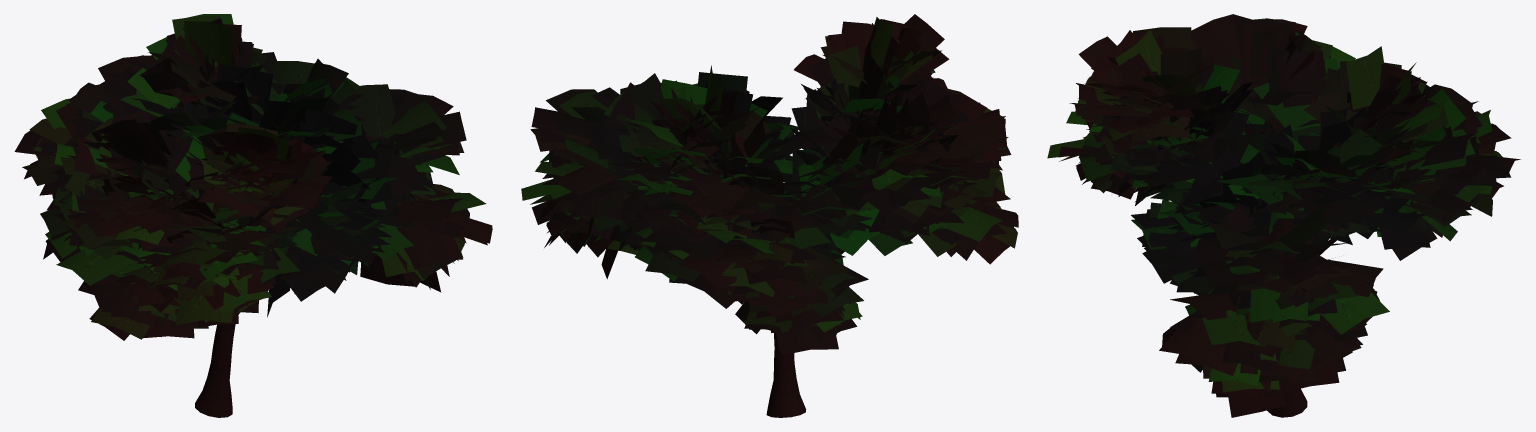
File: veg_tamarind2.glb
3 renders of one model, left to right at view 1: azimuth 30°, elevation 25°; view 2: azimuth 150°, elevation 25°; view 3: azimuth 270°, elevation 25°, orthographic. The views are drawn at different scales.
Visible parts, largest first — view 1: tamarind_2; view 2: tamarind_2; view 3: tamarind_2.
Part boxes in pixels (box(x1,y1,x2,y2)): tamarind_2: box(14, 14, 492, 417); tamarind_2: box(521, 14, 1018, 417); tamarind_2: box(1047, 14, 1520, 417).
Bounding box in the file's own units: 16.39 × 13.32 × 15.42.
2 materials, 2 textured.
